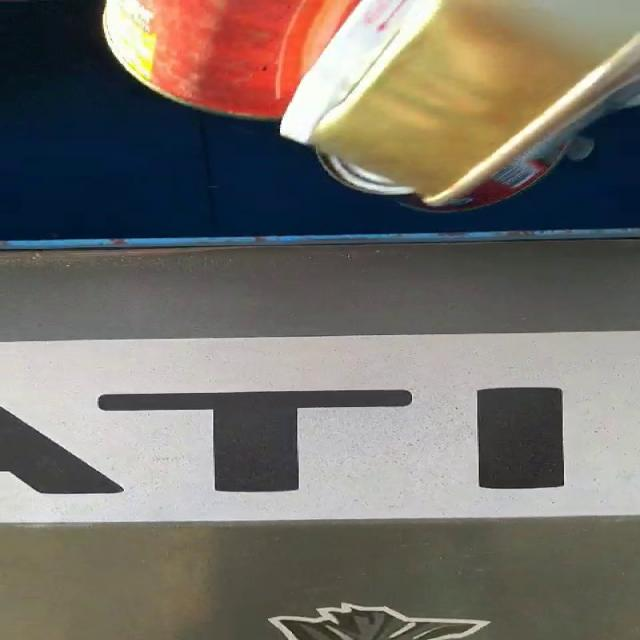bin: (1, 0, 640, 640)
metal: (103, 0, 640, 210)
